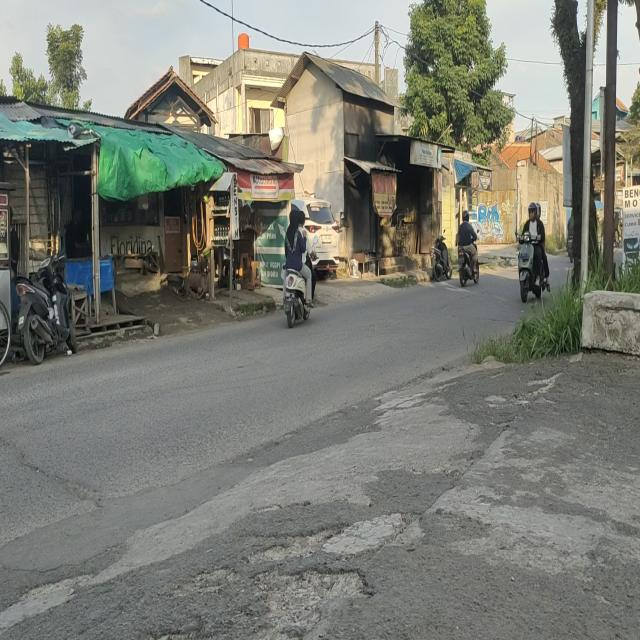helmet: (528, 202, 538, 220), (463, 208, 470, 224), (537, 201, 542, 220)
no-helmet: (289, 212, 298, 226), (298, 210, 305, 227)
